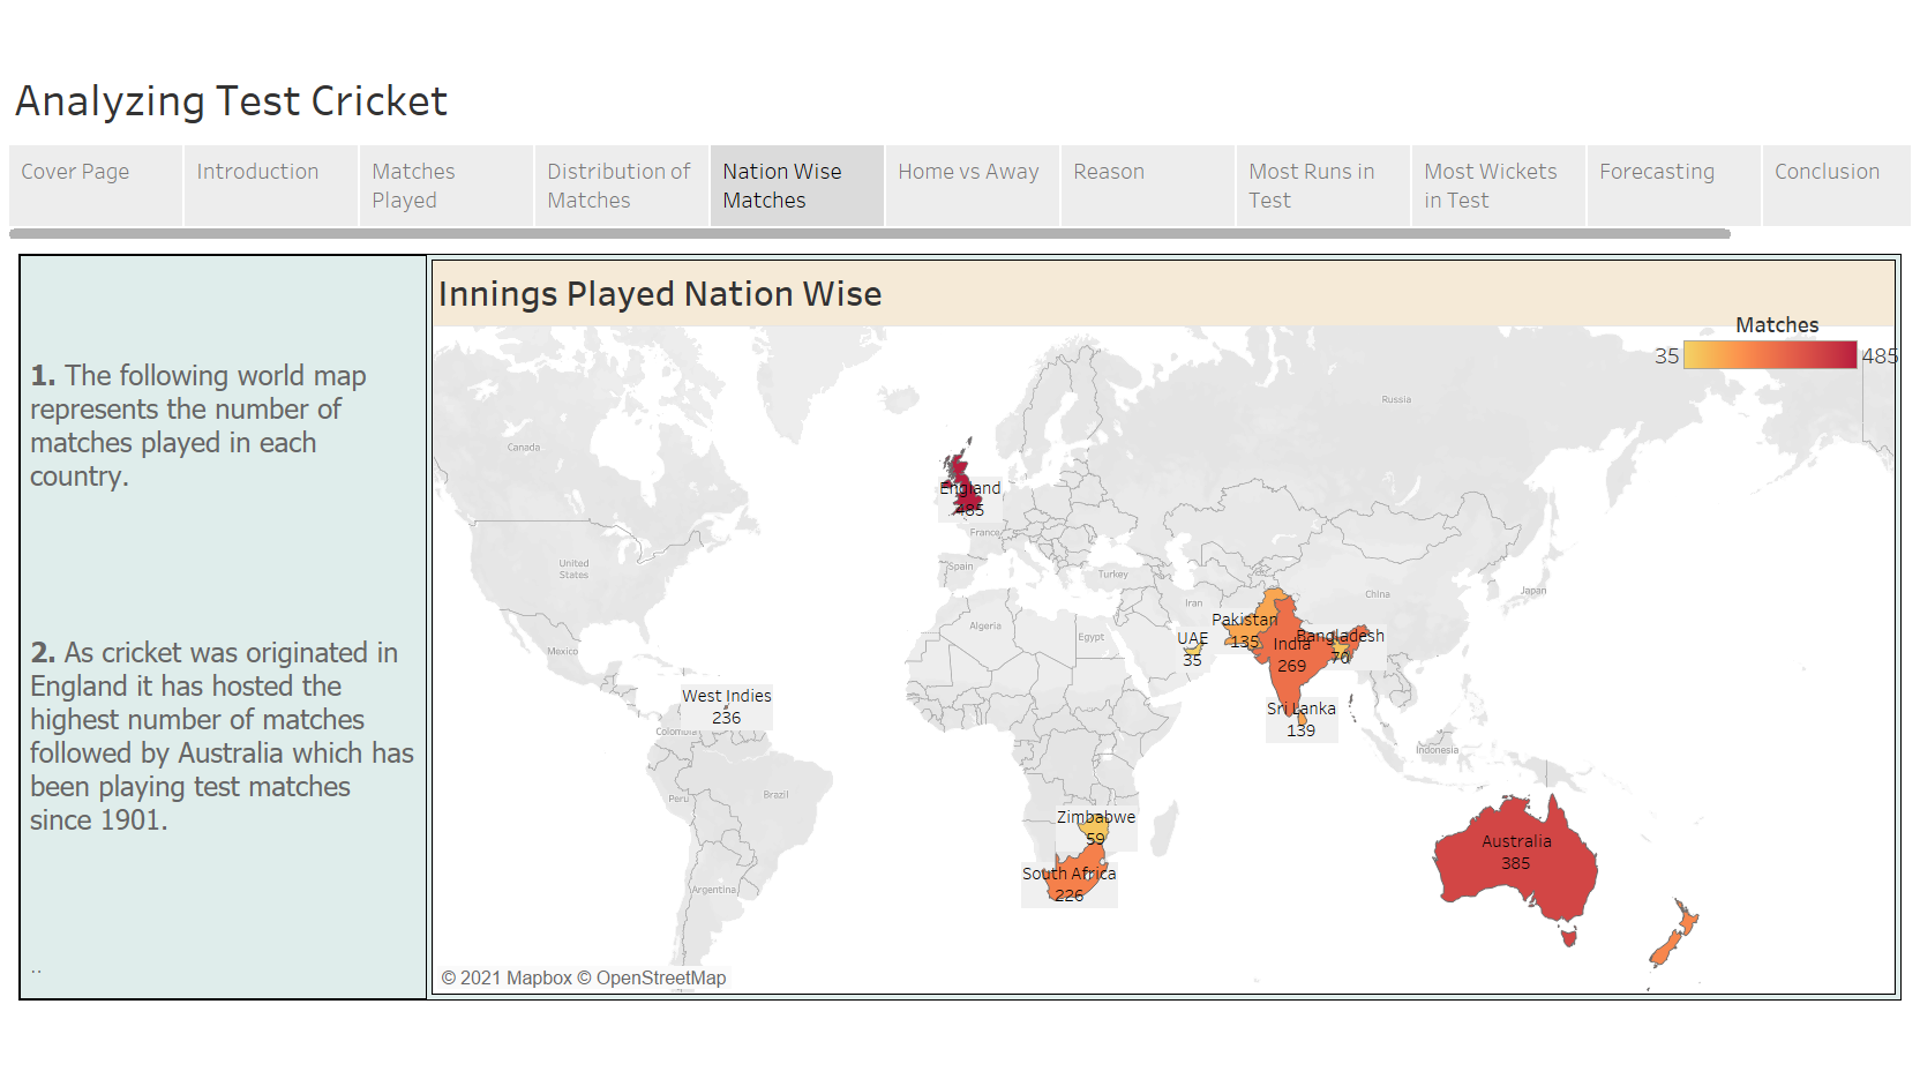

The dashboard page shown, as its layout file describes it:
{"tool":"tableau","page":{"name":"Slide 3 text","canvas":[1000,1000],"units":"permille","ordinal":7},"visuals":[{"type":"worksheet","title":"Innings Played Nation Wise","mark":"Automatic","box":[219.7,10.8,774.9,978.3]},{"type":"text","box":[6,12,213,39.8]},{"type":"legend","title":"Innings Played Nation Wise","param":"[federated.1eixfgw15ivupc1dtgze80zokoll].[sum:Matches:qk]","box":[862.9,78.3,134,130.1]}]}

Visuals, with their boxes on the dashboard's canvas, which has no fixed pixel size, in thousandths of its width and height (x1, y1, x2, y2). These are canvas units, not pixel positions in the 1920x1080 screenshot, which may show the page scaled, cropped or inside an application window:
"Innings Played Nation Wise" worksheet: box(220, 11, 995, 989)
text: box(6, 12, 219, 52)
"Innings Played Nation Wise" legend: box(863, 78, 997, 208)
